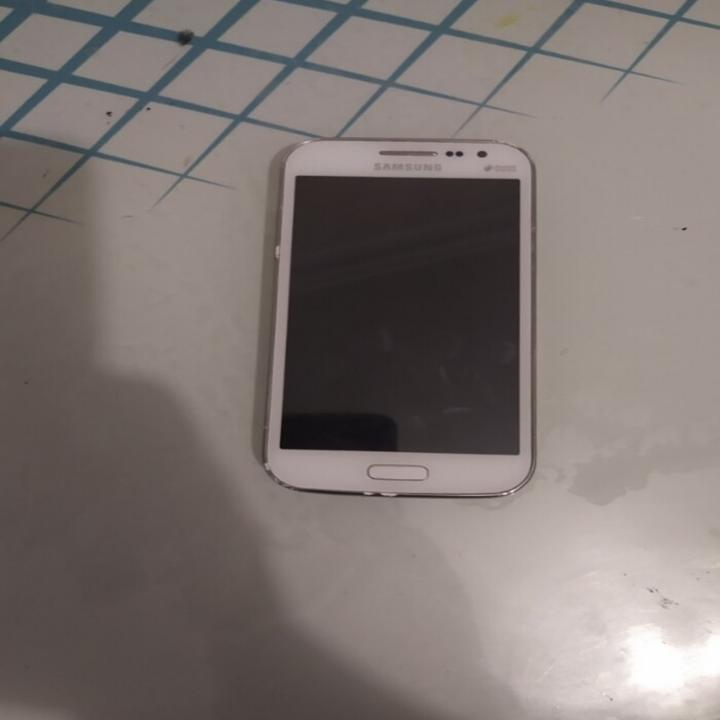phone good: (242, 123, 564, 522)
